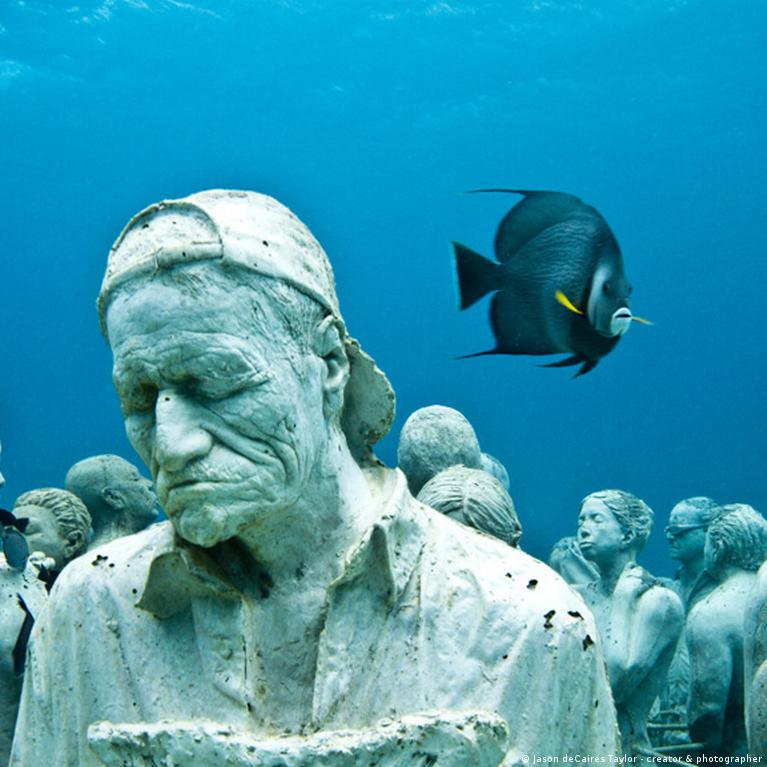Artifacts: (20, 196, 594, 767)
Fish: (444, 181, 653, 381)
